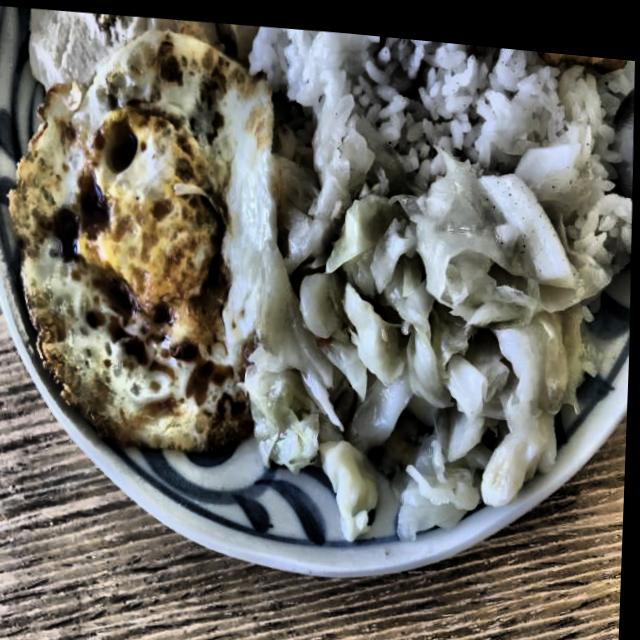Food: (13, 17, 284, 458), (276, 137, 578, 486), (300, 23, 611, 165)
